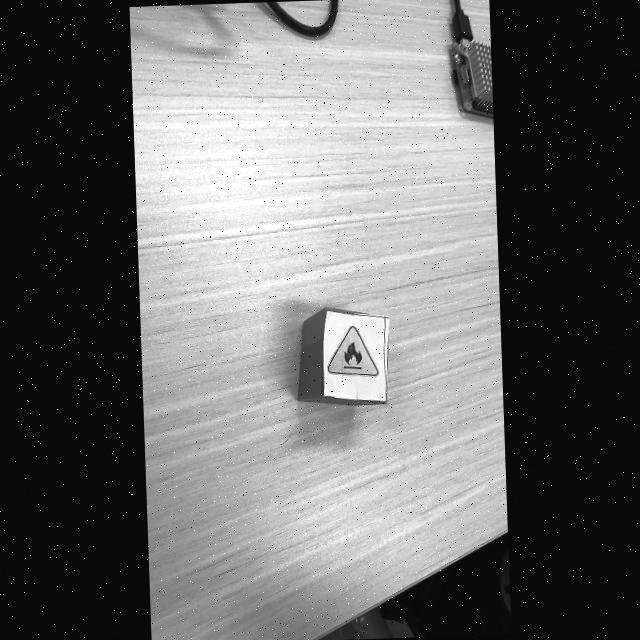Fire: (327, 326, 378, 377)
